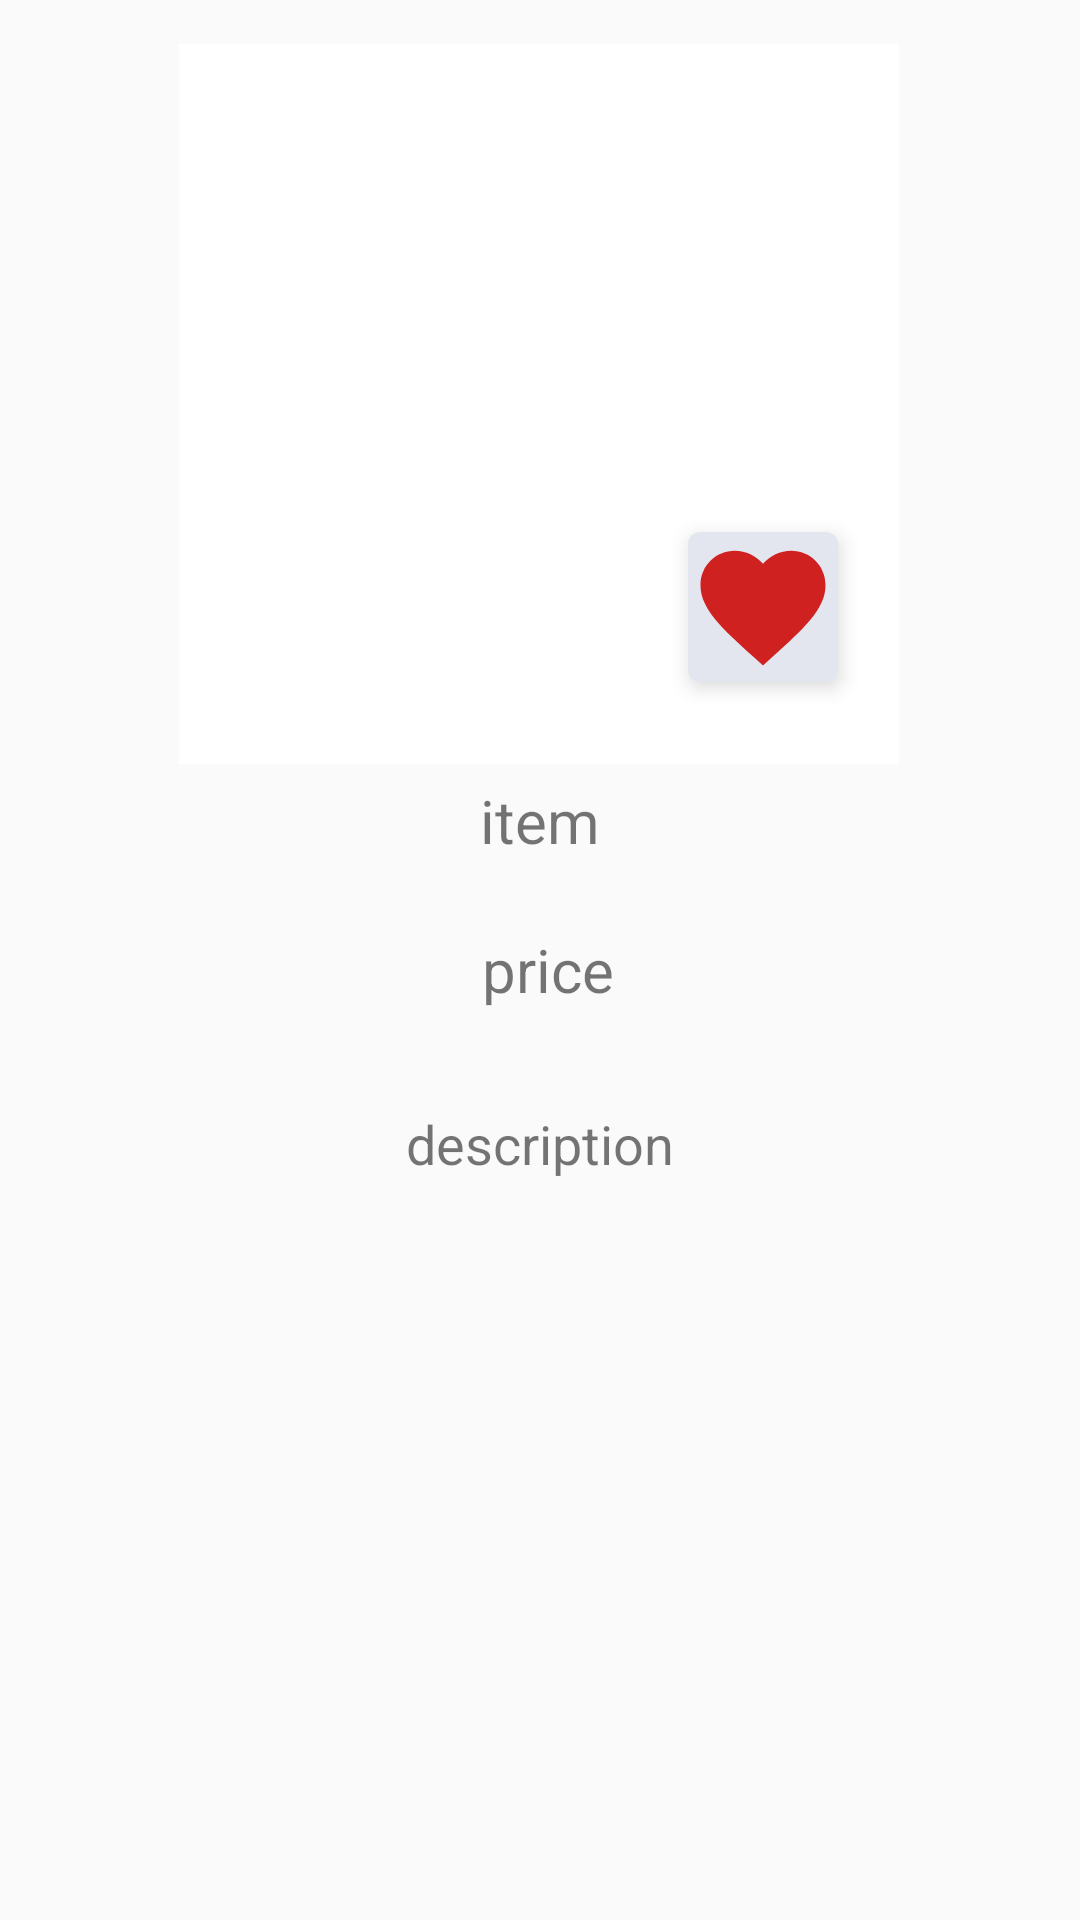

Icons on this 1080px x 1920px Android screen, each with the point to tap as [x,y]:
favorite: [763,608]
